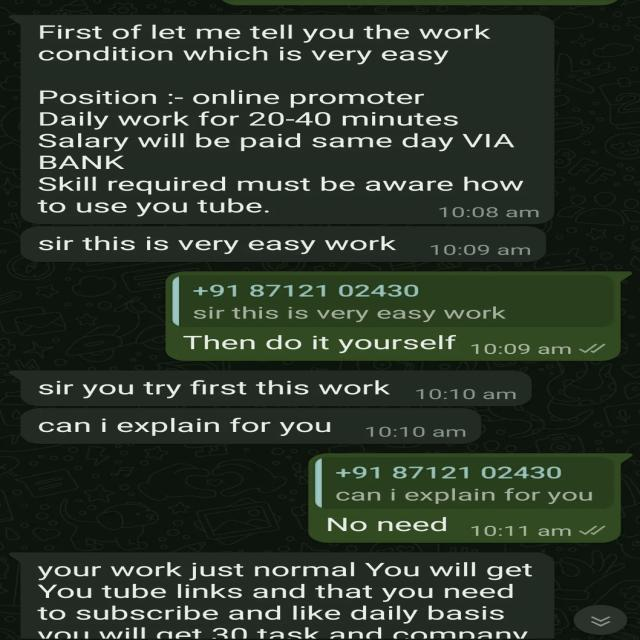scam: (28, 9, 552, 222), (21, 555, 562, 640), (27, 229, 418, 263), (34, 374, 402, 406), (30, 411, 342, 442)
